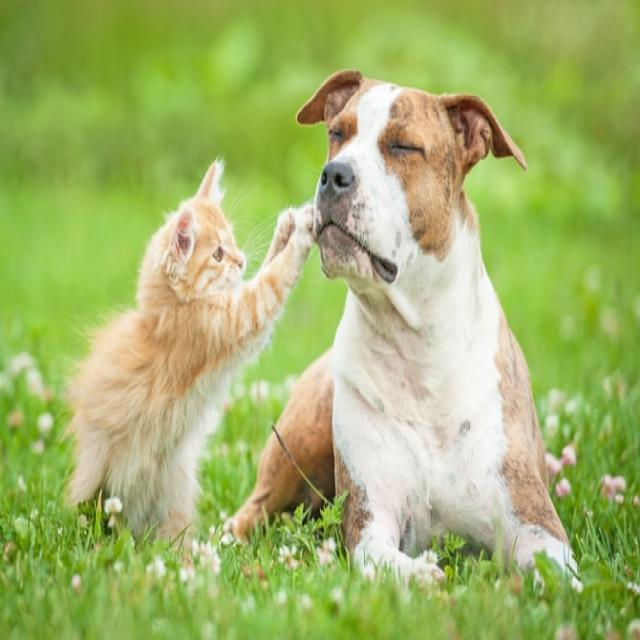cat: (60, 155, 312, 534)
dog: (284, 60, 578, 591)
